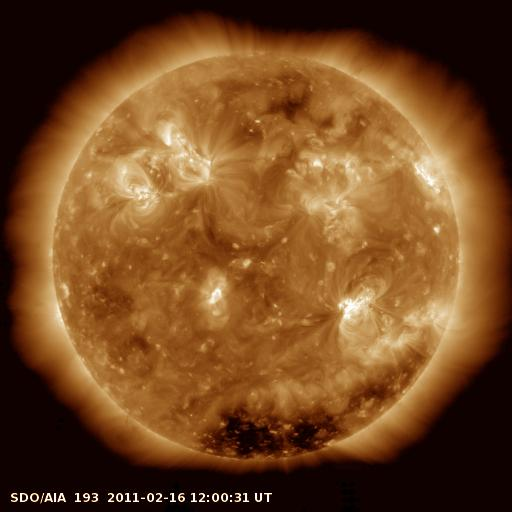coronal_hole: (197, 339, 432, 466)
